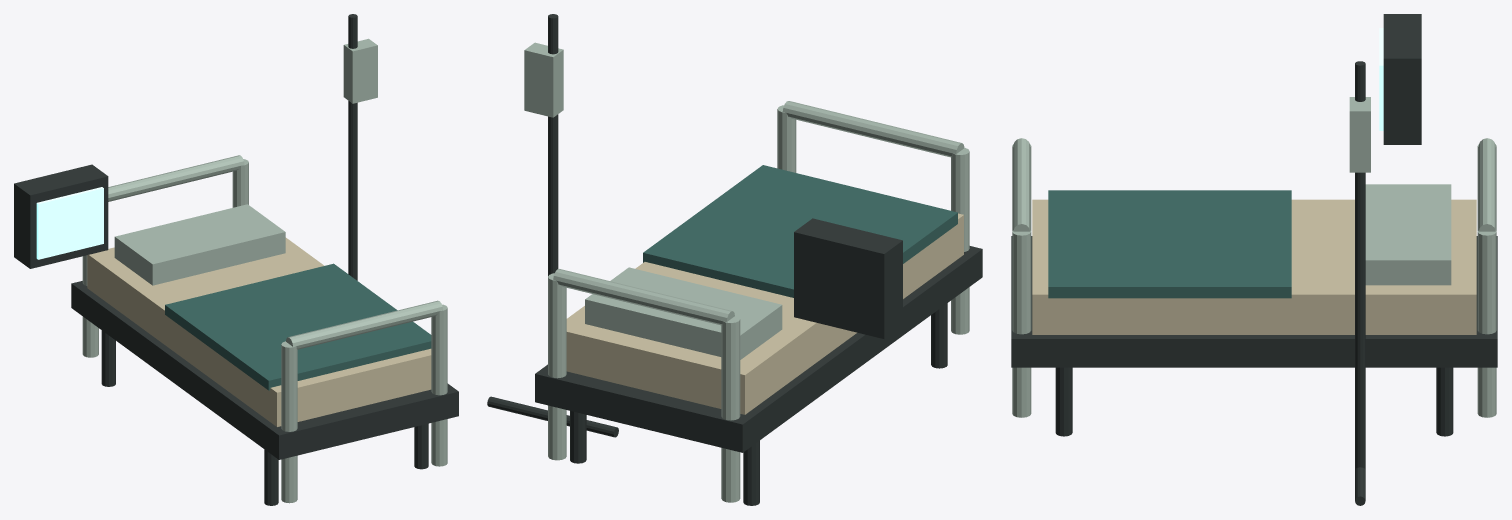
File: hospital_bed.glb
The picture shows the model from 3 angles, left to right: view 1: azimuth 30°, elevation 25°; view 2: azimuth 150°, elevation 25°; view 3: azimuth 270°, elevation 25°; orthographic projection. The views are drawn at different scales.
Visible parts, largest first — view 1: blanket, mattress.002, WALL_bed_frame, pillow.002, monitor_case, monitor_screen, rail.001, bedposts.001, bedposts.003, iv_stand, rail, iv_bag (+5 smaller); view 2: blanket, mattress.002, WALL_bed_frame, monitor_case, pillow.002, rail, rail.001, bedposts, bedposts.002, iv_bag, bedposts.001, iv_stand (+5 smaller); view 3: mattress.002, blanket, WALL_bed_frame, pillow.002, monitor_case, iv_stand, bedposts.002, bedposts.003, rail, rail.001, iv_bag, legs.002 (+1 smaller).
Part boxes in pixels (left/top/right/bottom): blanket: left=165, top=263, right=431, bottom=390; mattress.002: left=87, top=237, right=431, bottom=426; WALL_bed_frame: left=71, top=281, right=458, bottom=459; pillow.002: left=114, top=204, right=285, bottom=285; monitor_case: left=14, top=164, right=108, bottom=268; monitor_screen: left=36, top=187, right=103, bottom=259; rail.001: left=286, top=300, right=442, bottom=349; bedposts.001: left=281, top=341, right=297, bottom=503; bedposts.003: left=431, top=304, right=447, bottom=466; iv_stand: left=348, top=14, right=357, bottom=280; rail: left=108, top=155, right=244, bottom=201; iv_bag: left=343, top=38, right=377, bottom=103; blanket: left=643, top=165, right=957, bottom=297; mattress.002: left=566, top=213, right=963, bottom=414; WALL_bed_frame: left=535, top=246, right=982, bottom=452; monitor_case: left=794, top=218, right=902, bottom=338; pillow.002: left=585, top=267, right=782, bottom=359; rail: left=553, top=269, right=734, bottom=325; rail.001: left=782, top=101, right=964, bottom=157; bedposts: left=721, top=315, right=740, bottom=502; bedposts.002: left=548, top=273, right=566, bottom=460; iv_bag: left=524, top=42, right=563, bottom=117; bedposts.001: left=951, top=147, right=969, bottom=334; iv_stand: left=548, top=14, right=558, bottom=276; mattress.002: left=1032, top=199, right=1476, bottom=334; blanket: left=1048, top=190, right=1291, bottom=298; WALL_bed_frame: left=1011, top=236, right=1497, bottom=367; pillow.002: left=1365, top=184, right=1451, bottom=285; monitor_case: left=1383, top=14, right=1421, bottom=144; iv_stand: left=1355, top=61, right=1365, bottom=469; bedposts.002: left=1477, top=230, right=1496, bottom=417; bedposts.003: left=1012, top=230, right=1031, bottom=417; rail: left=1478, top=138, right=1495, bottom=231; rail.001: left=1013, top=138, right=1030, bottom=231; iv_bag: left=1349, top=97, right=1370, bottom=172; legs.002: left=1436, top=367, right=1453, bottom=436.
Size of the model in its own units: 2.35 by 2.2 by 2.3.
